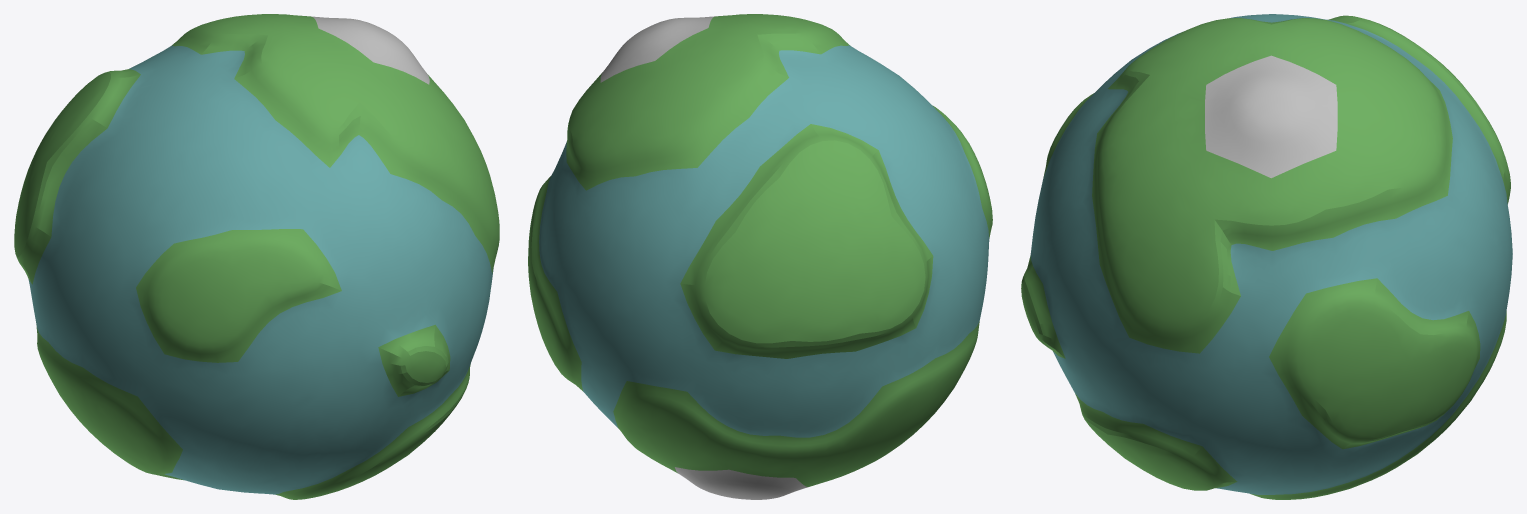
File: planet_big.glb
3 views of the same model, side by side, from view 1: azimuth 30°, elevation 25°; view 2: azimuth 150°, elevation 25°; view 3: azimuth 270°, elevation 25° (orthographic). The views are drawn at different scales.
Parts seen in each view (by area): view 1: Planet_1; view 2: Planet_1; view 3: Planet_1.
Boxes of the visible parts, x1=… form: Planet_1: x1=14, y1=14, x2=499, y2=499; Planet_1: x1=528, y1=14, x2=992, y2=499; Planet_1: x1=1021, y1=14, x2=1512, y2=499.
Bounding box in the file's own units: 3.79 × 3.93 × 3.82.
Materials: 1 (1 with a texture image).
